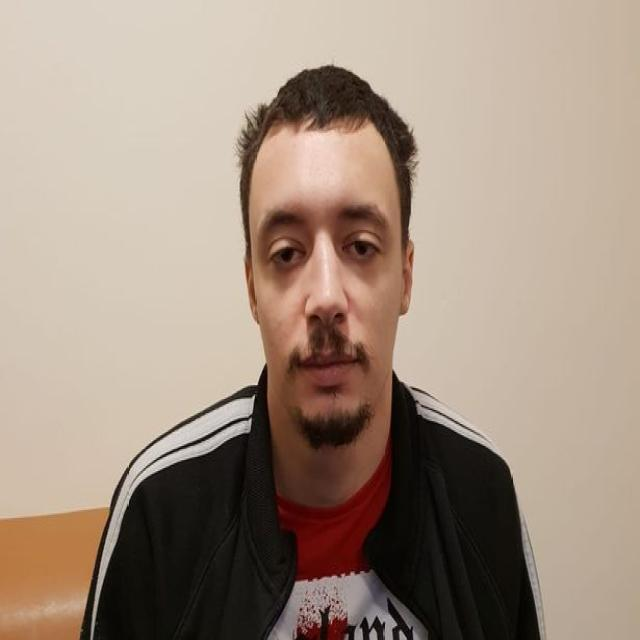mobile_phonerotation: (78, 62, 547, 637)
